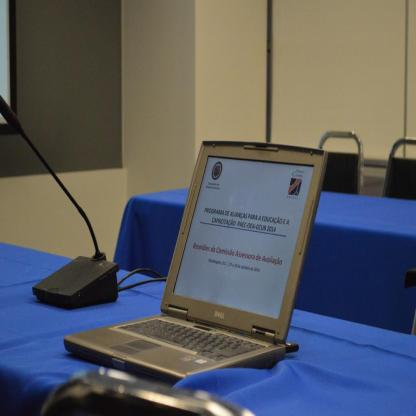board: (134, 142, 335, 389)
